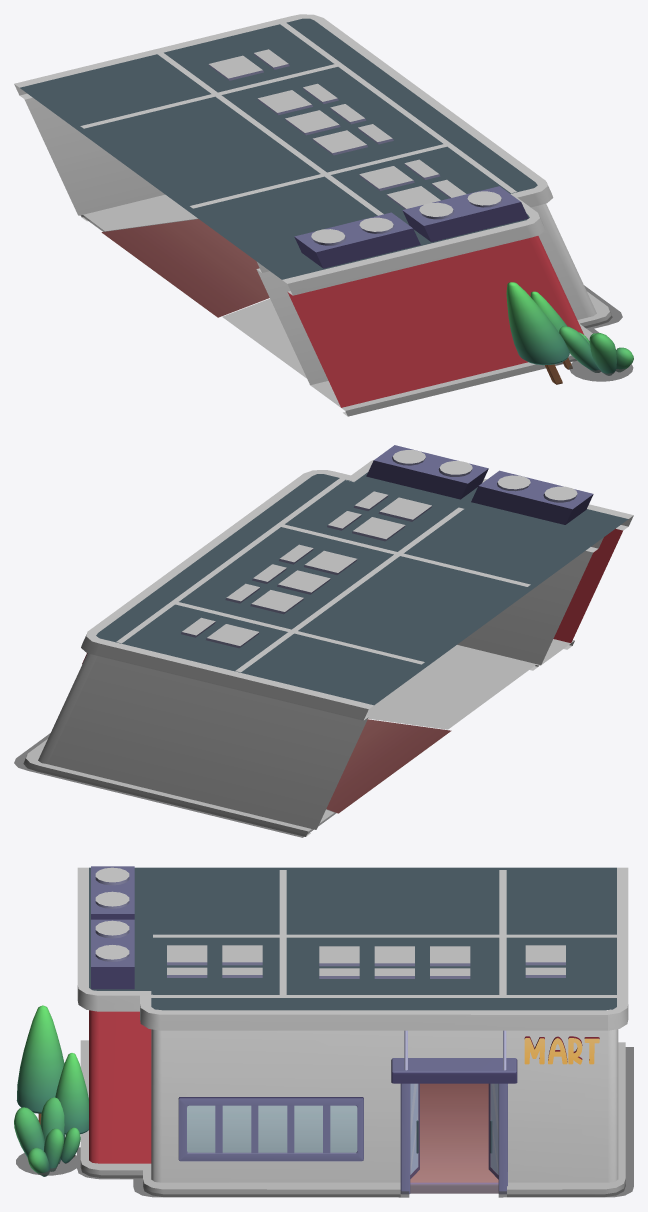
Rendered from Map Coffee house.fbx.
3 views of the same model, one above another, from view 1: azimuth 30°, elevation 25°; view 2: azimuth 150°, elevation 25°; view 3: azimuth 270°, elevation 25° (orthographic). The views are drawn at different scales.
Parts seen in each view (by area): view 1: wall; view 2: wall; view 3: wall.
Part boxes in pixels (x1,y1,x2,y2): wall: (14,14,633,416); wall: (14,445,633,837); wall: (14,866,633,1197).
Size of the model in its own units: 83.82 by 37.45 by 120.
2 materials, 1 textured.
